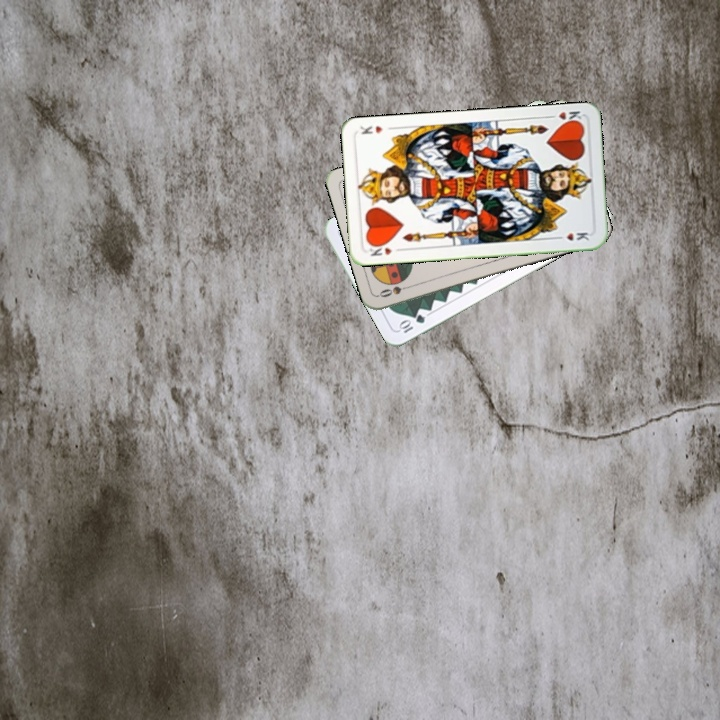G10: (395, 310, 428, 336)
HK: (544, 107, 584, 127), (365, 240, 395, 258)
SO: (375, 281, 415, 300)
